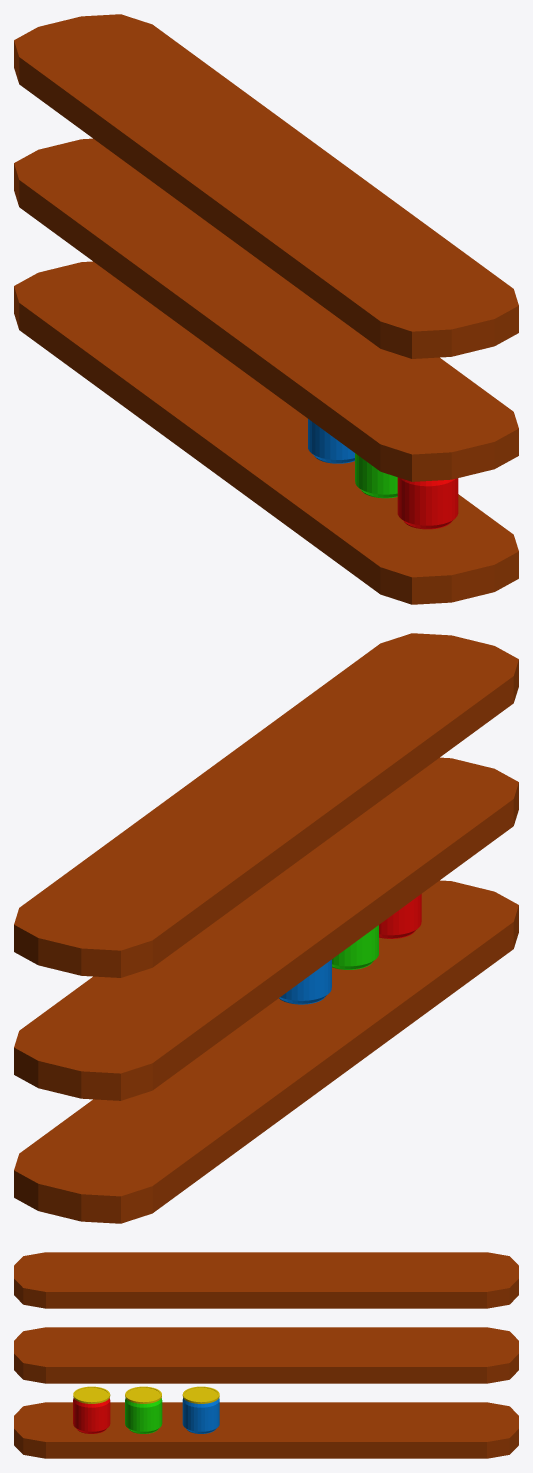
The model's file is shelf_wall.gltf.
The picture shows the model from 3 angles, top to bottom: view 1: azimuth 30°, elevation 25°; view 2: azimuth 150°, elevation 25°; view 3: azimuth 270°, elevation 25°; orthographic projection. The views are drawn at different scales.
Visible parts, largest first — view 1: étagère.001, bocal.003, bocal.004, bocal.005; view 2: étagère.001, bocal.005, bocal.004, bocal.003; view 3: étagère.001, bocal.005, bocal.003, bocal.004.
Boxes of the visible parts, x1,y1,x2,y2 form: étagère.001: (14,14,518,604); bocal.003: (397,477,458,529); bocal.004: (355,453,397,498); bocal.005: (308,419,354,463); étagère.001: (14,633,518,1223); bocal.005: (279,959,331,1004); bocal.004: (332,925,378,969); bocal.003: (379,894,421,938); étagère.001: (14,1252,518,1458); bocal.005: (182,1386,219,1433); bocal.003: (73,1386,110,1433); bocal.004: (125,1386,162,1433).
Bounding box in the file's own units: 1.16 × 2.26 × 6.2.
